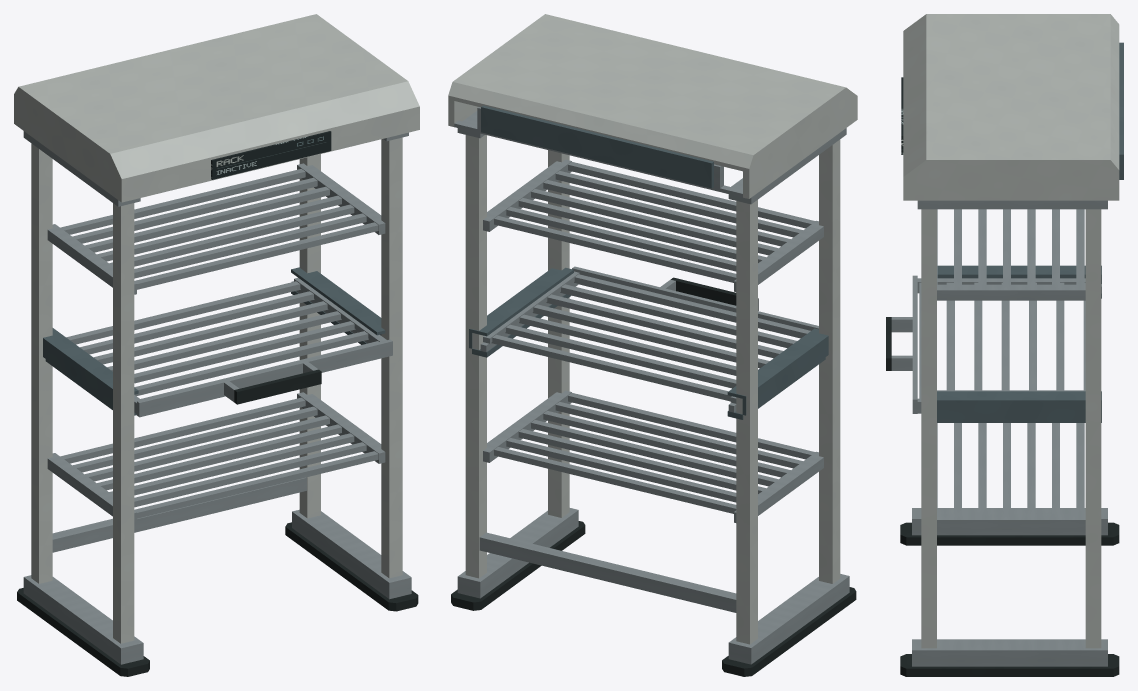
Rendered from AST-HSK-002.glb.
3 views of the same model, side by side, from view 1: azimuth 30°, elevation 25°; view 2: azimuth 150°, elevation 25°; view 3: azimuth 270°, elevation 25° (orthographic).
Parts seen in each view (by area): view 1: AST-HSK-002__static__staff_white_paint, AST-HSK-002__static__staff_zinc, AST-HSK-002__MIDDLE_CARRIER_SLIDE__staff_zinc, AST-HSK-002__static__staff_bluegrey_paint, AST-HSK-002__static__staff_rubber, AST-HSK-002__static__rack_controls, AST-HSK-002__MIDDLE_CARRIER_SLIDE__staff_rubber; view 2: AST-HSK-002__static__staff_white_paint, AST-HSK-002__static__staff_zinc, AST-HSK-002__MIDDLE_CARRIER_SLIDE__staff_zinc, AST-HSK-002__HOOD_REAR_SERVICE__staff_bluegrey_paint, AST-HSK-002__static__staff_bluegrey_paint, AST-HSK-002__static__staff_rubber, AST-HSK-002__MIDDLE_CARRIER_SLIDE__staff_rubber; view 3: AST-HSK-002__static__staff_white_paint, AST-HSK-002__static__staff_zinc, AST-HSK-002__MIDDLE_CARRIER_SLIDE__staff_zinc, AST-HSK-002__static__staff_bluegrey_paint, AST-HSK-002__static__staff_rubber, AST-HSK-002__HOOD_REAR_SERVICE__staff_bluegrey_paint.
Boxes of the visible parts, x1,y1,x2,y2 form: AST-HSK-002__static__staff_white_paint: [14, 14, 419, 643]; AST-HSK-002__static__staff_zinc: [23, 131, 411, 664]; AST-HSK-002__MIDDLE_CARRIER_SLIDE__staff_zinc: [66, 278, 392, 417]; AST-HSK-002__static__staff_bluegrey_paint: [43, 267, 385, 415]; AST-HSK-002__static__staff_rubber: [17, 522, 418, 676]; AST-HSK-002__static__rack_controls: [211, 131, 331, 179]; AST-HSK-002__MIDDLE_CARRIER_SLIDE__staff_rubber: [234, 369, 321, 404]; AST-HSK-002__static__staff_white_paint: [448, 14, 857, 644]; AST-HSK-002__static__staff_zinc: [454, 107, 849, 664]; AST-HSK-002__MIDDLE_CARRIER_SLIDE__staff_zinc: [480, 266, 818, 412]; AST-HSK-002__HOOD_REAR_SERVICE__staff_bluegrey_paint: [481, 105, 713, 188]; AST-HSK-002__static__staff_bluegrey_paint: [469, 267, 828, 419]; AST-HSK-002__static__staff_rubber: [451, 521, 856, 676]; AST-HSK-002__MIDDLE_CARRIER_SLIDE__staff_rubber: [671, 277, 758, 310]; AST-HSK-002__static__staff_white_paint: [903, 14, 1119, 648]; AST-HSK-002__static__staff_zinc: [912, 200, 1107, 666]; AST-HSK-002__MIDDLE_CARRIER_SLIDE__staff_zinc: [891, 275, 1101, 413]; AST-HSK-002__static__staff_bluegrey_paint: [937, 265, 1101, 422]; AST-HSK-002__static__staff_rubber: [900, 522, 1119, 676]; AST-HSK-002__HOOD_REAR_SERVICE__staff_bluegrey_paint: [1119, 42, 1123, 179].
Bounding box in the file's own units: 1.2 × 1.98 × 0.826.
5 materials, 5 textured.
